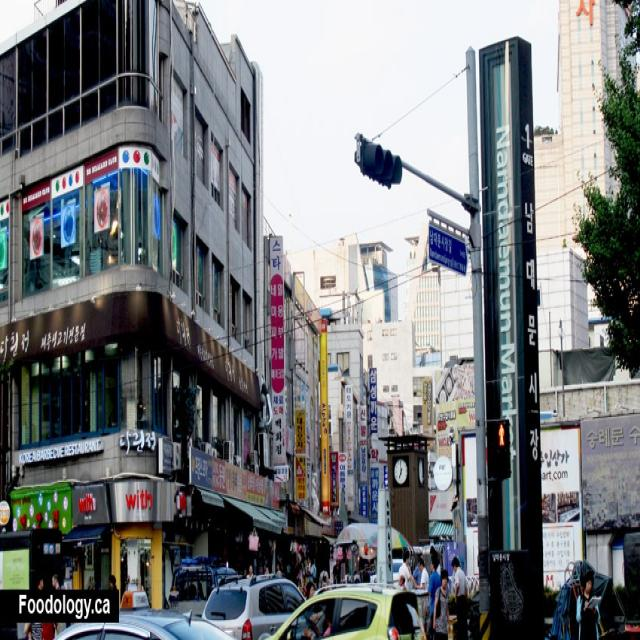body: (575, 569, 602, 640), (450, 554, 469, 638), (432, 567, 451, 640), (413, 556, 430, 636), (427, 552, 441, 640), (397, 546, 417, 591), (358, 540, 372, 582), (428, 543, 442, 578), (322, 608, 334, 640), (308, 555, 316, 600), (318, 562, 330, 591), (332, 559, 342, 586), (304, 579, 314, 603), (397, 572, 409, 591), (32, 572, 44, 591), (106, 574, 118, 592), (50, 571, 61, 589), (275, 560, 283, 579), (246, 563, 254, 579), (264, 566, 270, 575)
